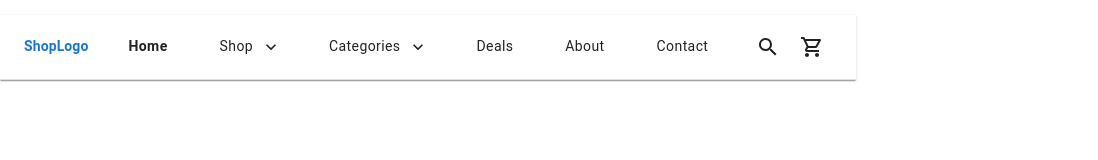
Test: Header › expands search input when search button is clicked
Click the button named "open search": (768, 46) [748, 26, 788, 66]
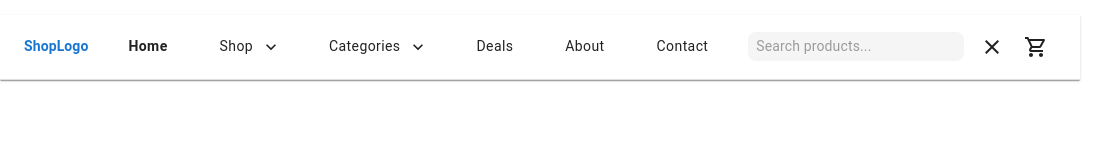
Expected: the field labelled "Search products..." is shown, [756, 32, 956, 61]
